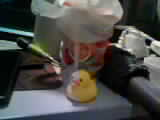duck: (59, 66, 98, 98)
